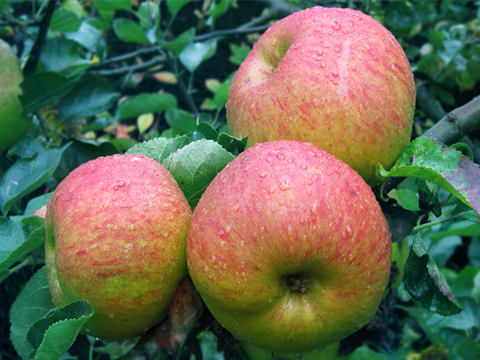apple: (187, 142, 392, 350), (226, 6, 413, 186), (43, 153, 191, 340)
